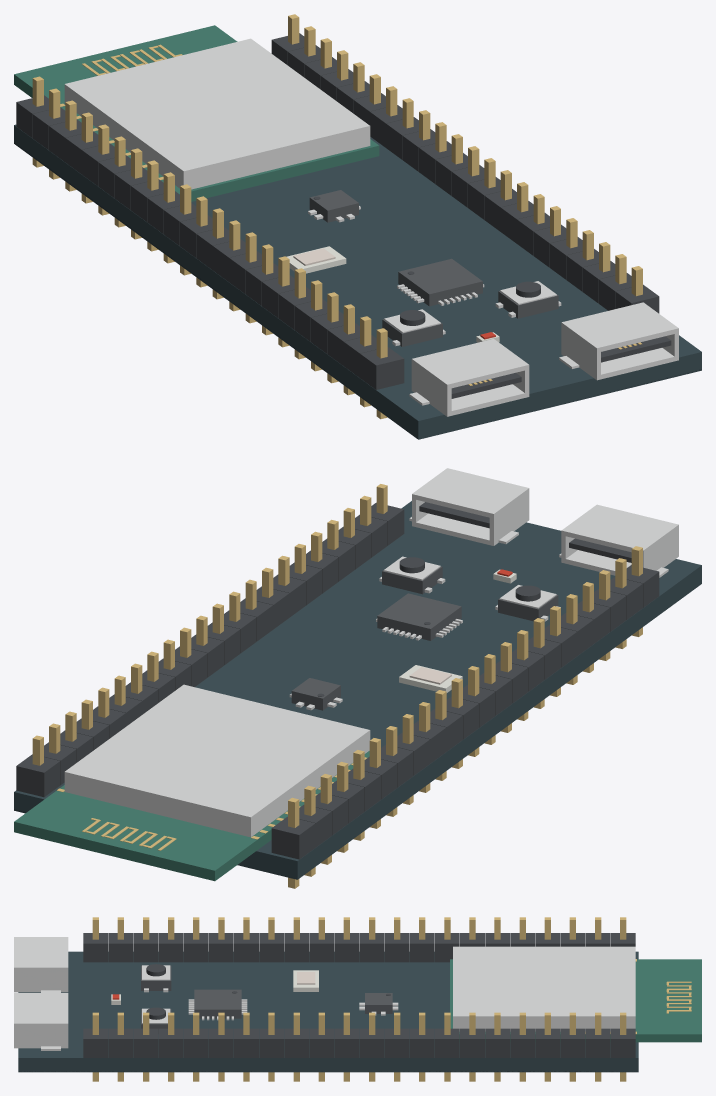
The model's file is esp32-s2-devkitc-1.glb.
3 views of the same model, one above another, from view 1: azimuth 30°, elevation 25°; view 2: azimuth 150°, elevation 25°; view 3: azimuth 270°, elevation 25° (orthographic). The views are drawn at different scales.
Parts seen in each view (by area): view 1: PCB, U4, J1, J3, J2, J4, U3, SW2, SW1, U2, D6; view 2: PCB, U4, J1, J3, J4, J2, U3, SW2, SW1, U2, D6; view 3: PCB, J3, U4, J1, J4, J2, U3, SW1, U2, D6, SW2.
Part boxes in pixels (bbox=[...]): PCB: bbox=[14, 124, 701, 439]; U4: bbox=[14, 25, 379, 201]; J1: bbox=[16, 76, 404, 419]; J3: bbox=[271, 14, 659, 313]; J2: bbox=[409, 339, 529, 416]; J4: bbox=[559, 302, 678, 380]; U3: bbox=[397, 258, 484, 306]; SW2: bbox=[495, 281, 561, 318]; SW1: bbox=[382, 309, 445, 346]; U2: bbox=[308, 190, 360, 222]; D6: bbox=[286, 246, 346, 273]; PCB: bbox=[14, 501, 701, 879]; U4: bbox=[14, 684, 370, 881]; J1: bbox=[271, 546, 659, 888]; J3: bbox=[16, 484, 404, 797]; J4: bbox=[409, 468, 529, 545]; J2: bbox=[559, 504, 678, 577]; U3: bbox=[376, 593, 462, 640]; SW2: bbox=[379, 556, 445, 594]; SW1: bbox=[495, 585, 560, 621]; U2: bbox=[289, 678, 342, 710]; D6: bbox=[399, 665, 462, 692]; PCB: bbox=[18, 951, 638, 1072]; J3: bbox=[83, 1012, 635, 1081]; U4: bbox=[450, 946, 701, 1042]; J1: bbox=[83, 917, 635, 962]; J4: bbox=[14, 993, 68, 1050]; J2: bbox=[14, 937, 68, 992]; U3: bbox=[188, 989, 247, 1020]; SW1: bbox=[141, 964, 171, 992]; U2: bbox=[359, 993, 398, 1015]; D6: bbox=[293, 970, 318, 991]; SW2: bbox=[141, 1007, 171, 1033].
Size of the model in its own units: 0.0254 by 0.0074 by 0.0696.
